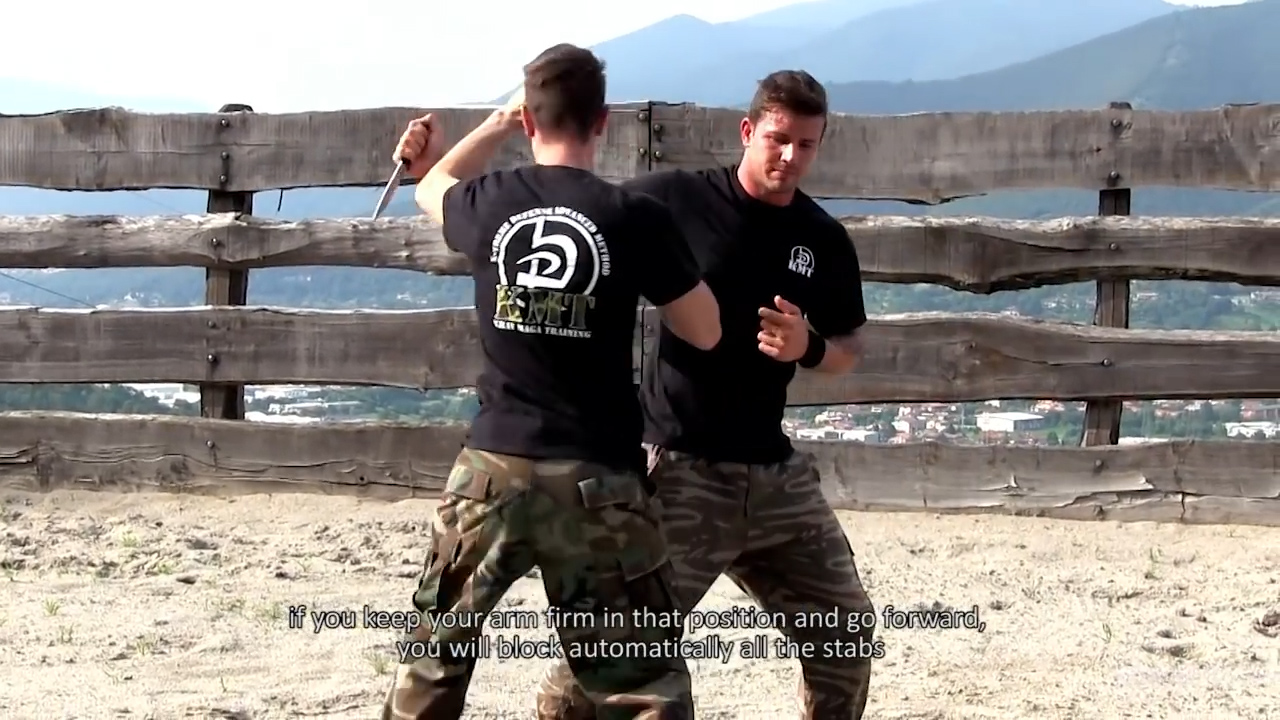knife: (354, 107, 441, 233)
